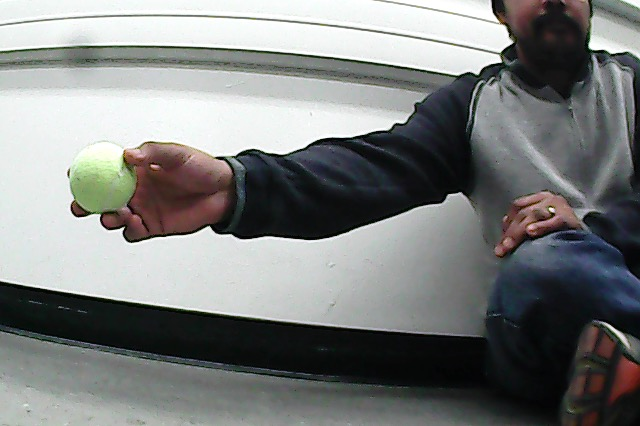ball: (66, 138, 142, 217)
